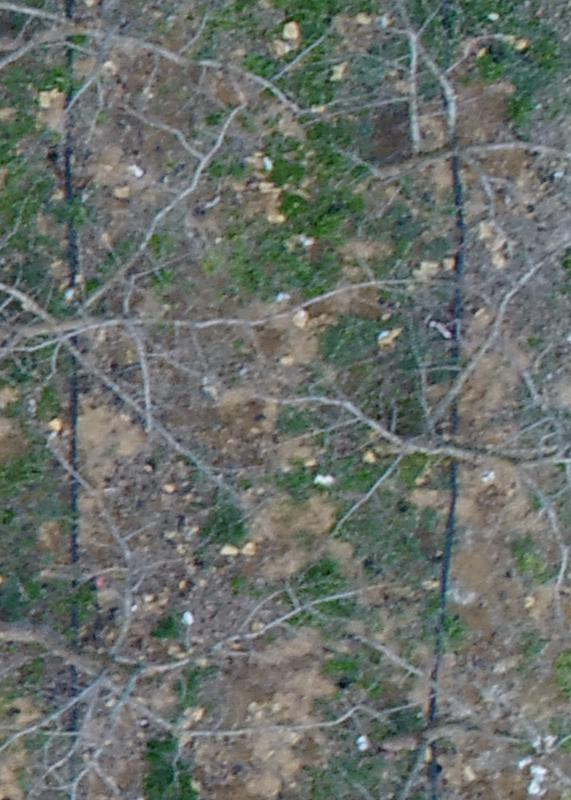apple: (10, 110, 315, 538), (10, 446, 362, 790), (252, 262, 561, 606), (319, 10, 561, 243)
